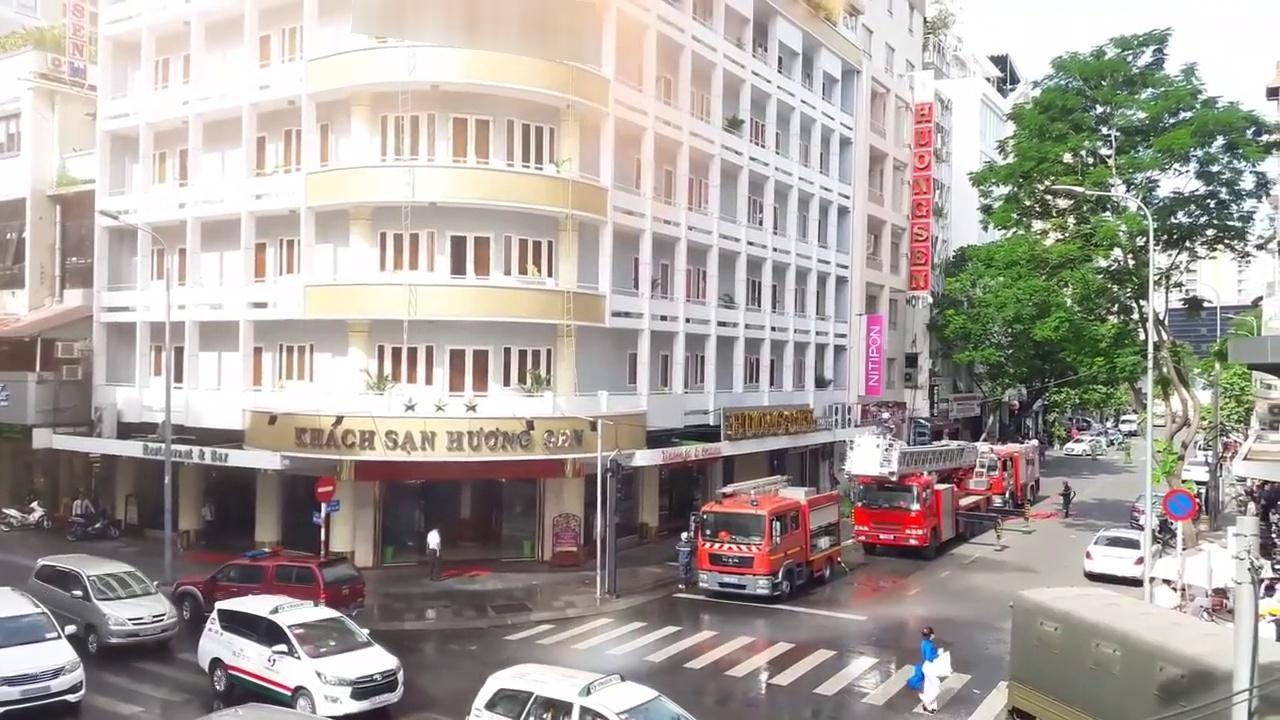xe cuu hoa: (843, 433, 993, 560), (694, 474, 837, 601)
xe hoi: (197, 594, 403, 714), (29, 552, 177, 653), (171, 546, 365, 622), (467, 661, 696, 719), (0, 585, 86, 714), (1083, 526, 1143, 576)
